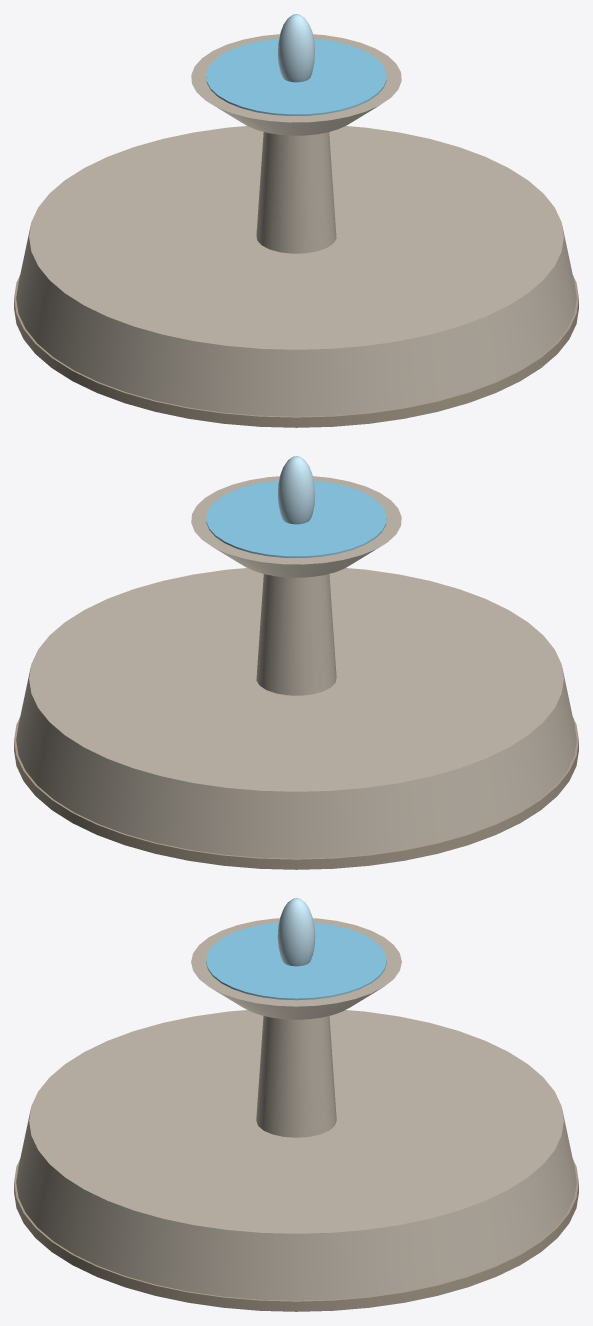
File: prop_plaza_fountain_ph.glb
The picture shows the model from 3 angles, top to bottom: view 1: azimuth 30°, elevation 25°; view 2: azimuth 150°, elevation 25°; view 3: azimuth 270°, elevation 25°; orthographic projection.
Visible parts, largest first — view 1: prop_plaza_fountain; view 2: prop_plaza_fountain; view 3: prop_plaza_fountain.
Boxes of the visible parts, x1,y1,x2,y2 form: prop_plaza_fountain: (14, 14, 578, 427); prop_plaza_fountain: (14, 456, 578, 869); prop_plaza_fountain: (14, 898, 578, 1311).
Size of the model in its own units: 3 by 1.72 by 3.
